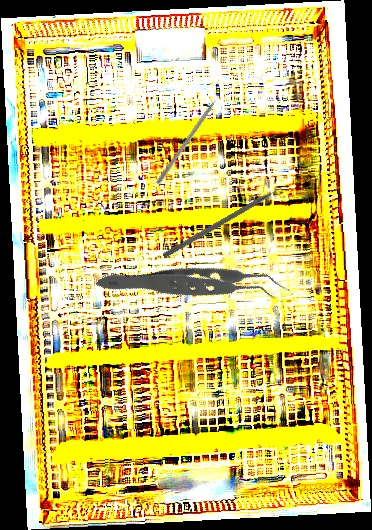Chopper: (162, 182, 293, 265)
Pusher: (155, 86, 228, 186)
Tissue Forceps: (95, 200, 293, 375)
